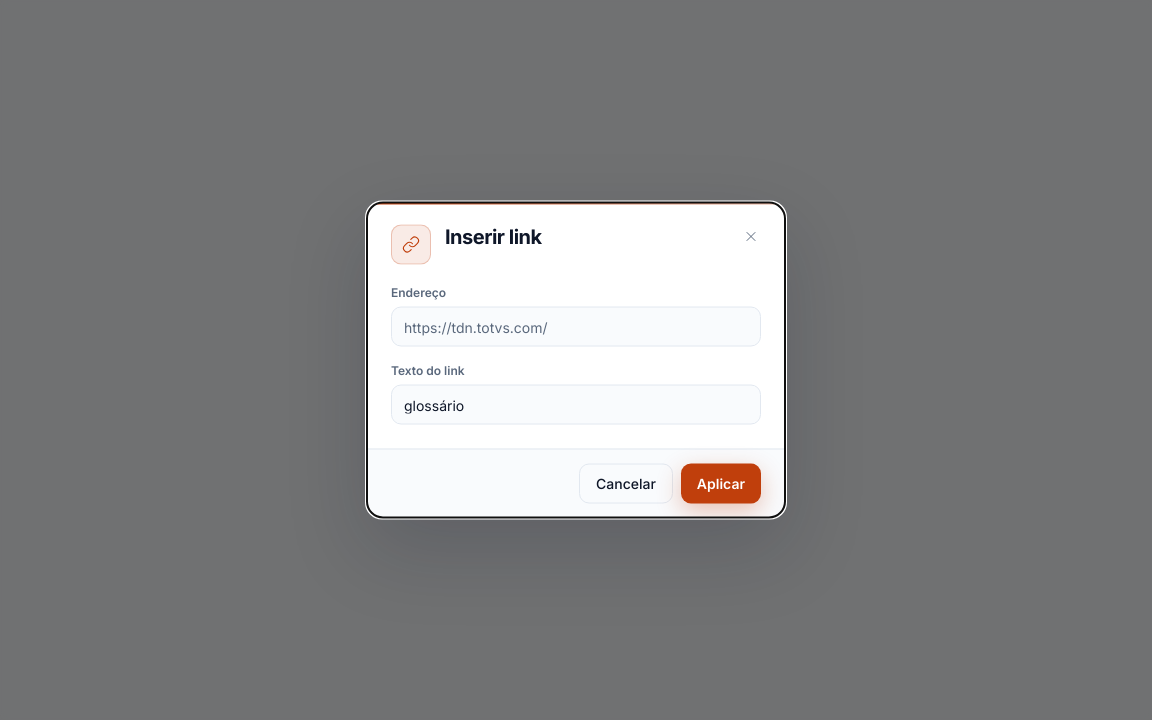
Test case: LinkDialog › recusa endereço fora de http(s)/mailto com mensagem na janela
In the field labelled "Endereço": (576, 326) [391,306,761,346], type "javascript:alert(1)"
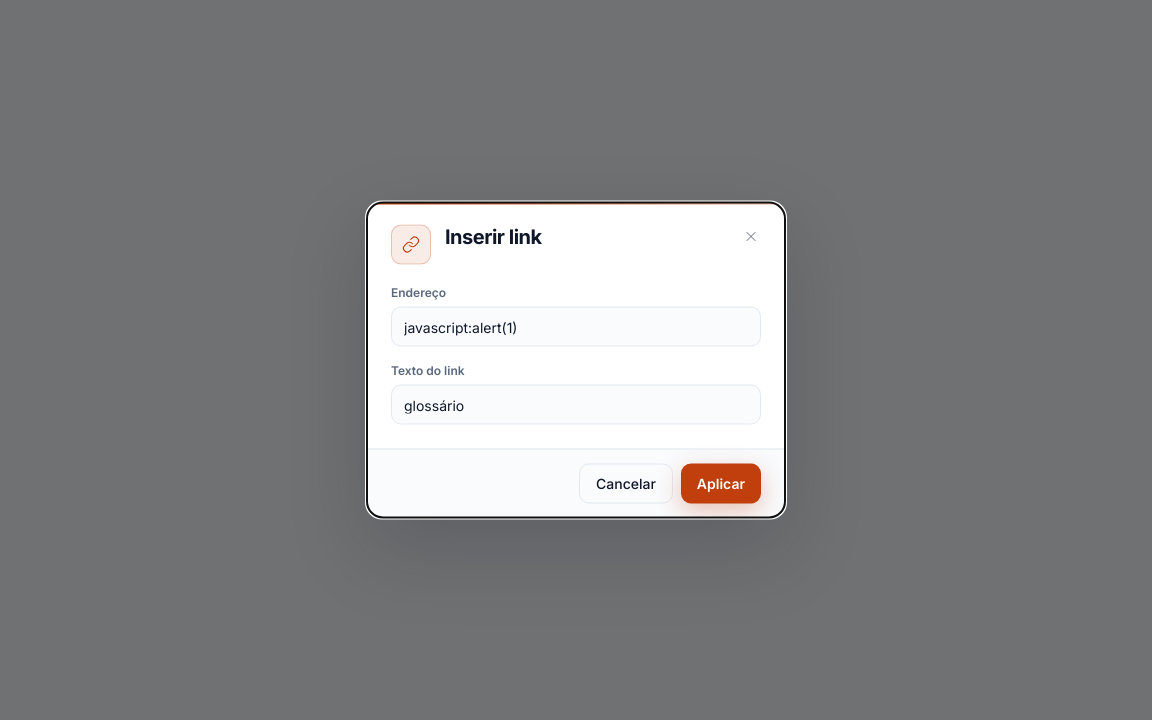
Click the button "Aplicar": (721, 484) [681,464,761,504]
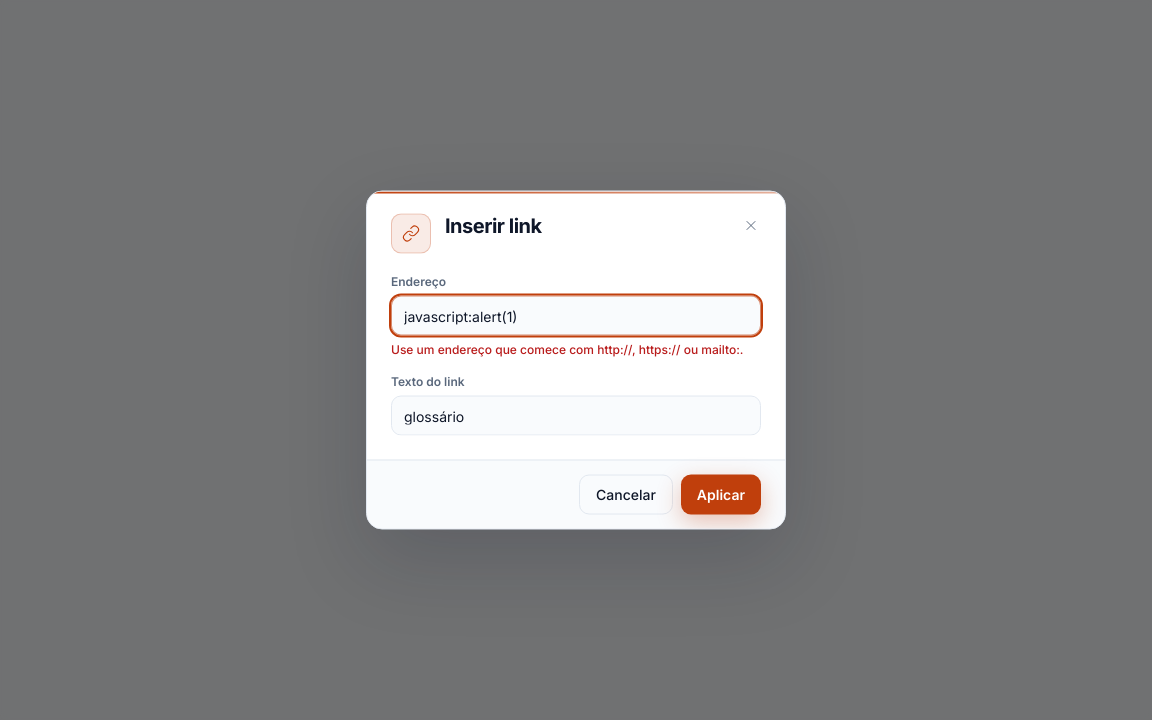
Now the message shows "http://, https:// ou mailto:", box [391,342,744,356]
